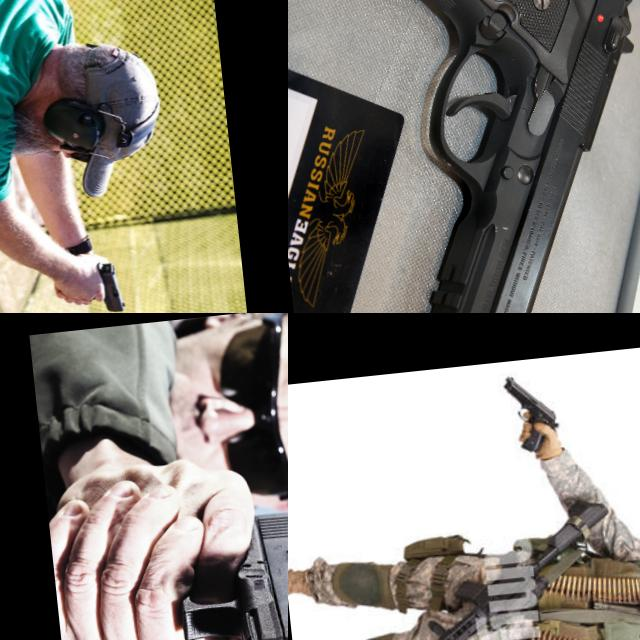handgun: (322, 0, 640, 313), (153, 502, 288, 640), (494, 368, 564, 458), (74, 256, 126, 313)
